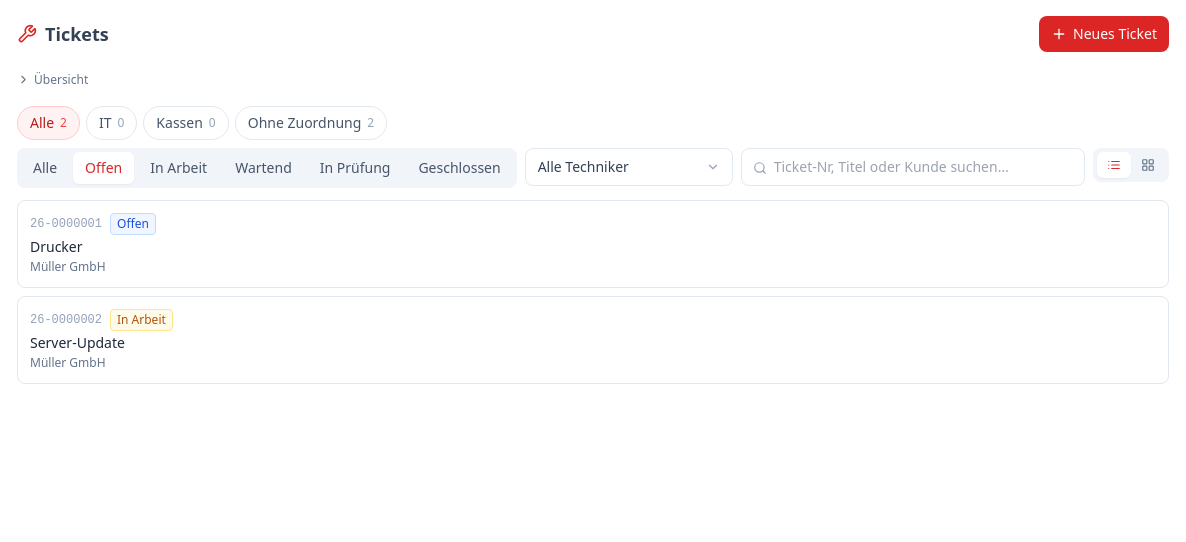
Scenario: TicketsPage › renders the pool × status overview matrix
The image size is (1186, 542).
Click the button "Übersicht" at (53, 80), box [17,72,88,88]
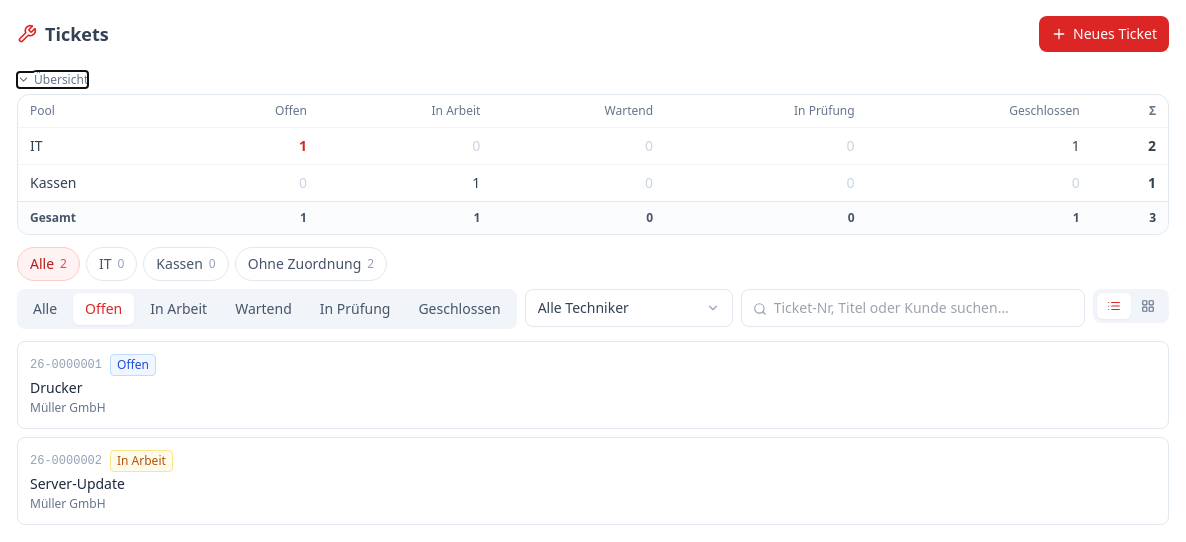
Result: the element with test id "ticket-matrix" is shown at [17,94,1169,234]
Result: the button "IT" is shown at [30,136,42,156]
Result: the button "Kassen" is shown at [30,172,76,192]
